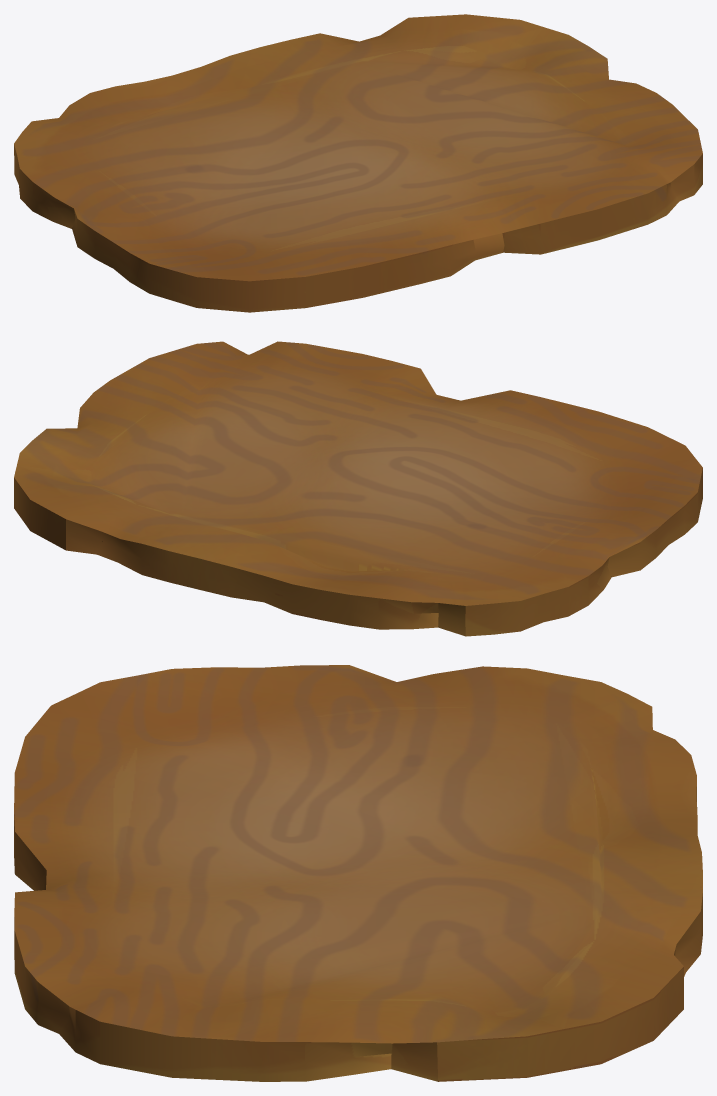
Rendered from board.fbx.
3 renders of one model, top to bottom at view 1: azimuth 30°, elevation 25°; view 2: azimuth 150°, elevation 25°; view 3: azimuth 270°, elevation 25°, orthographic. The views are drawn at different scales.
Visible parts, largest first — view 1: board; view 2: board; view 3: board.
Part boxes in pixels (bbox=[...]): board: bbox=[14, 14, 702, 312]; board: bbox=[14, 341, 702, 636]; board: bbox=[14, 665, 702, 1081].
Size of the model in its own units: 165 by 11.12 by 127.
